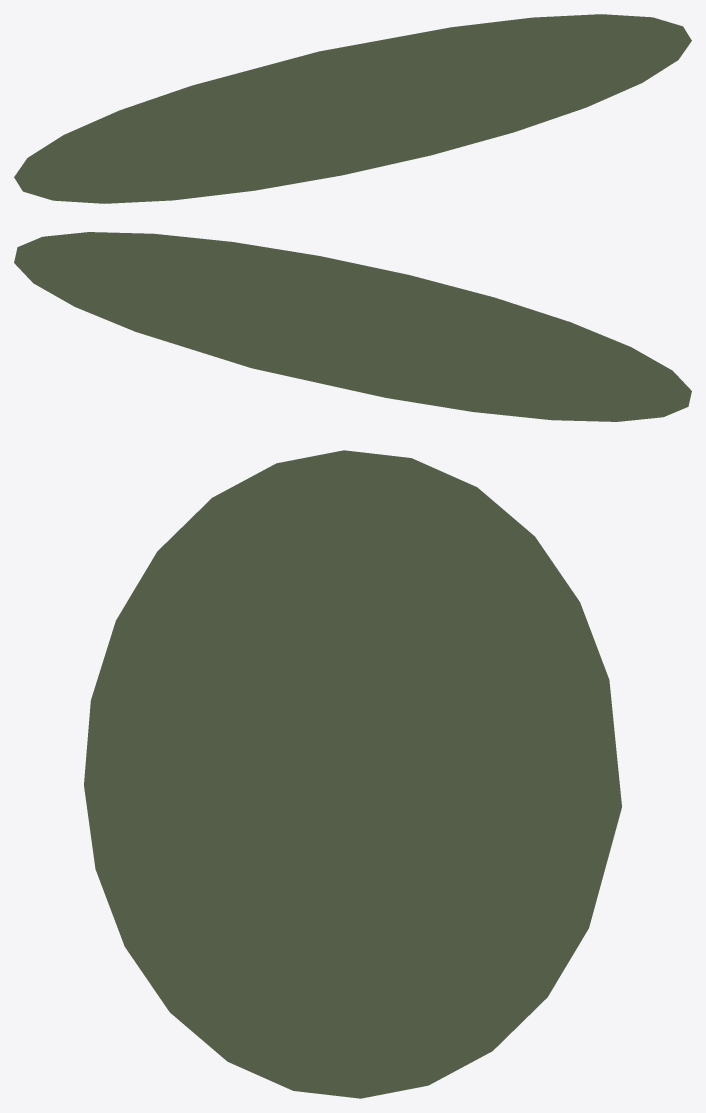
File: xiyuan-vegetation-05-medium.glb
3 renders of one model, top to bottom at view 1: azimuth 30°, elevation 25°; view 2: azimuth 150°, elevation 25°; view 3: azimuth 270°, elevation 25°, orthographic. The views are drawn at different scales.
Parts seen in each view (by area): view 1: flowerbed soil; view 2: flowerbed soil; view 3: flowerbed soil.
Boxes of the visible parts, x1,y1,x2,y2 form: flowerbed soil: (14, 14, 691, 203); flowerbed soil: (14, 232, 691, 421); flowerbed soil: (84, 450, 621, 1098).
Bounding box in the file's own units: 7.21 × 0 × 2.53.
